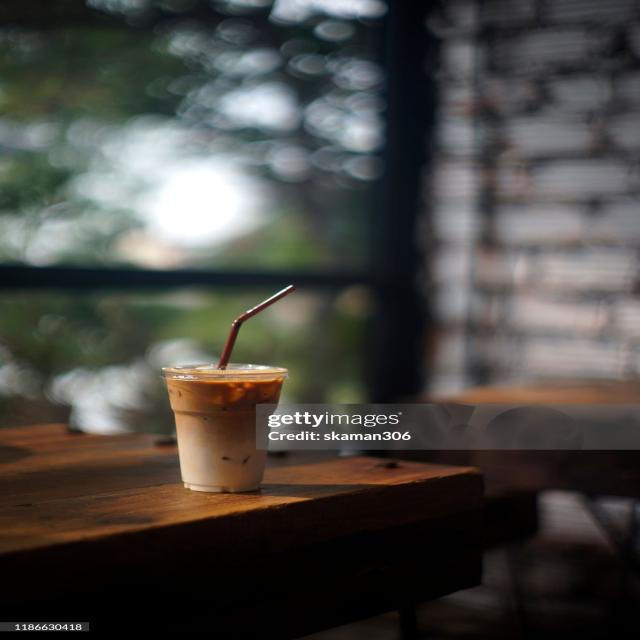cup: (148, 363, 288, 496)
